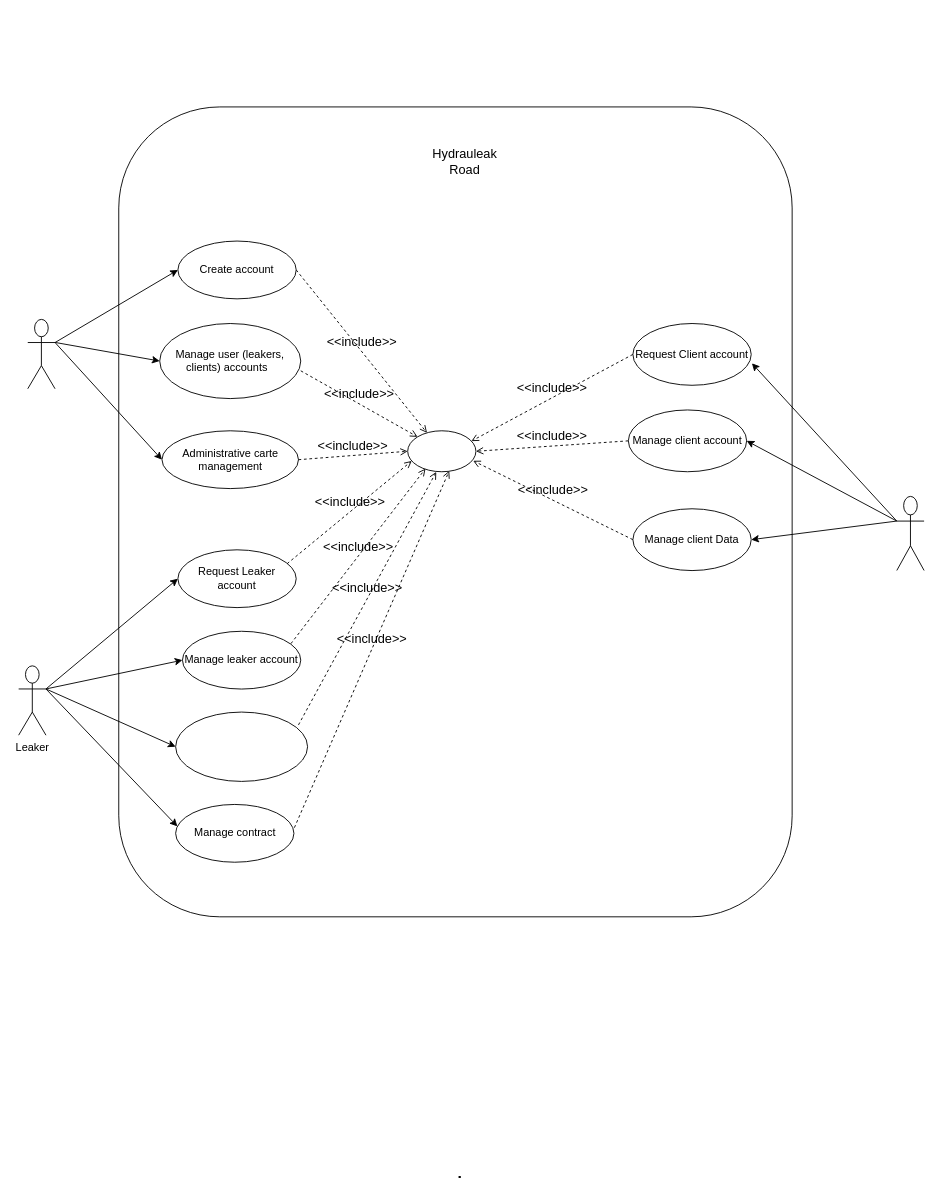
Some shapes in this 940 by 1198 pixel diagram are drawn without their labels. The centre of each missing label's shape, as x and y in pixels:
"Admin" goes at point 41,353.
"Client" goes at point 910,532.
"Login" goes at point 441,451.
"Manage leaker carte" goes at point 241,746.
